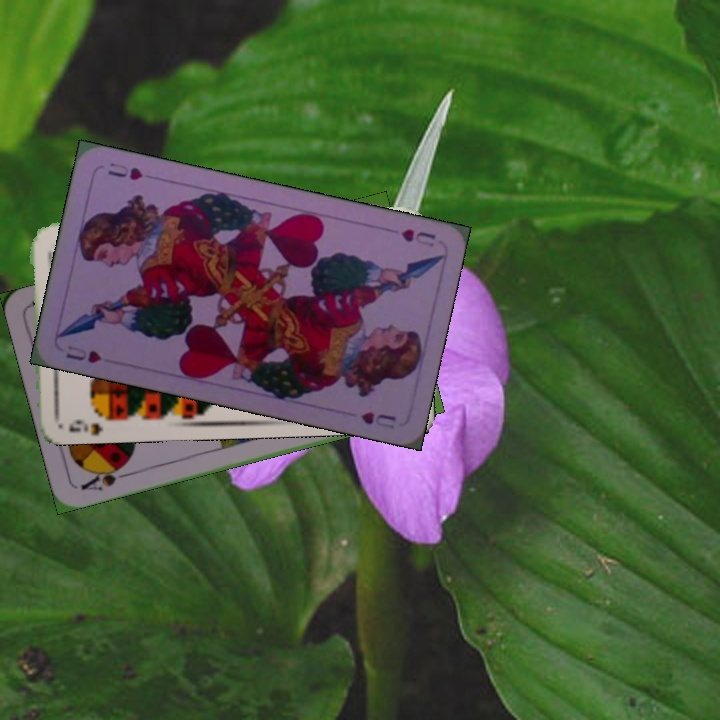HU: (62, 341, 105, 366), (397, 224, 438, 250)
S9: (65, 408, 118, 435)
SA: (77, 459, 134, 494)
